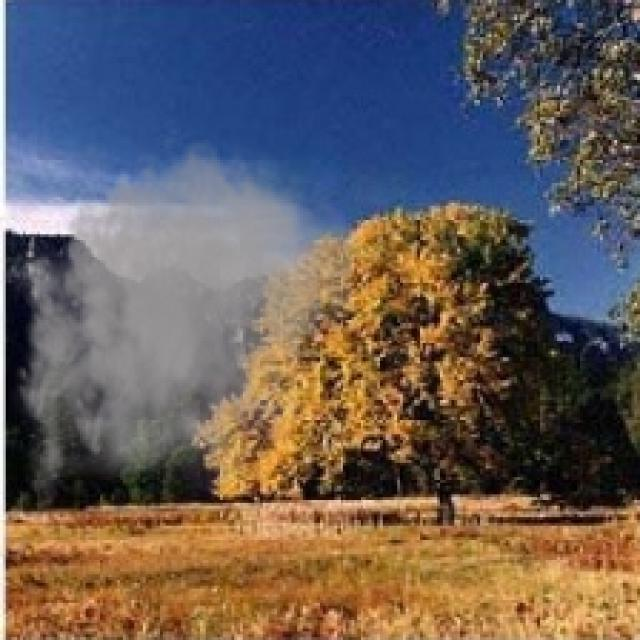smoke: (0, 128, 369, 512)
